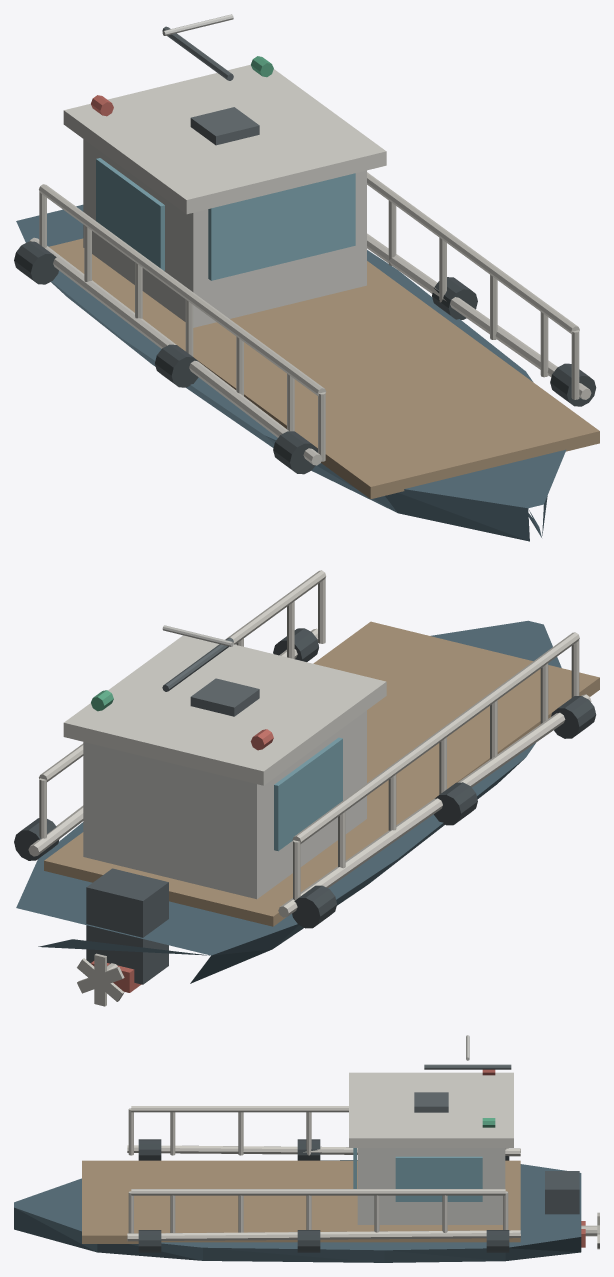
File: cargo-boat.glb
3 views of the same model, one above another, from view 1: azimuth 30°, elevation 25°; view 2: azimuth 150°, elevation 25°; view 3: azimuth 270°, elevation 25° (orthographic). The views are drawn at different scales.
Visible parts, largest first — view 1: 01_Teak cargo deck, 08_Cabin roof, 00_Deep blue tapered hull, 04_White wheelhouse, 05_Front windshield, 06_Side windows, 21_Safety rail, 02_Gunwale, 29_Safety rail, 03_Gunwale, 09_Roof hatch, 30_Rubber fender (+4 smaller); view 2: 01_Teak cargo deck, 04_White wheelhouse, 08_Cabin roof, 00_Deep blue tapered hull, 36_Outboard engine, 06_Side windows, 02_Gunwale, 21_Safety rail, 09_Roof hatch, 29_Safety rail, 30_Rubber fender, 31_Rubber fender (+6 smaller); view 3: 01_Teak cargo deck, 00_Deep blue tapered hull, 08_Cabin roof, 04_White wheelhouse, 07_Side windows, 03_Gunwale, 29_Safety rail, 02_Gunwale, 36_Outboard engine, 21_Safety rail, 09_Roof hatch, 33_Rubber fender (+5 smaller).
Boxes of the visible parts, box(x1,y1,x2,y2) form: 01_Teak cargo deck: box(49, 238, 599, 498); 08_Cabin roof: box(63, 64, 386, 214); 00_Deep blue tapered hull: box(16, 204, 566, 541); 04_White wheelhouse: box(83, 139, 366, 327); 05_Front windshield: box(208, 173, 355, 280); 06_Side windows: box(96, 158, 164, 270); 21_Safety rail: box(39, 184, 326, 396); 02_Gunwale: box(29, 237, 322, 465); 29_Safety rail: box(367, 172, 579, 334); 03_Gunwale: box(367, 233, 591, 399); 09_Roof hatch: box(190, 107, 259, 145); 30_Rubber fender: box(14, 241, 58, 284); 01_Teak cargo deck: box(44, 621, 599, 926); 04_White wheelhouse: box(83, 710, 366, 899); 08_Cabin roof: box(63, 635, 386, 785); 00_Deep blue tapered hull: box(16, 620, 561, 983); 36_Outboard engine: box(86, 868, 168, 984); 06_Side windows: box(274, 737, 342, 851); 02_Gunwale: box(278, 694, 591, 917); 21_Safety rail: box(292, 632, 579, 844); 09_Roof hatch: box(190, 678, 259, 716); 29_Safety rail: box(39, 570, 325, 782); 30_Rubber fender: box(292, 885, 336, 928); 31_Rubber fender: box(434, 782, 477, 825); 01_Teak cargo deck: box(82, 1160, 520, 1243); 00_Deep blue tapered hull: box(14, 1160, 581, 1262); 08_Cabin roof: box(349, 1072, 513, 1147); 04_White wheelhouse: box(357, 1148, 505, 1224); 07_Side windows: box(395, 1156, 482, 1201); 03_Gunwale: box(127, 1230, 520, 1241); 29_Safety rail: box(131, 1189, 505, 1195); 02_Gunwale: box(127, 1145, 520, 1156); 36_Outboard engine: box(545, 1171, 579, 1214); 21_Safety rail: box(131, 1106, 348, 1112); 09_Roof hatch: box(414, 1092, 448, 1112); 33_Rubber fender: box(486, 1230, 509, 1252).
Bounding box in the file's own units: 3.14 × 2.94 × 7.75.
